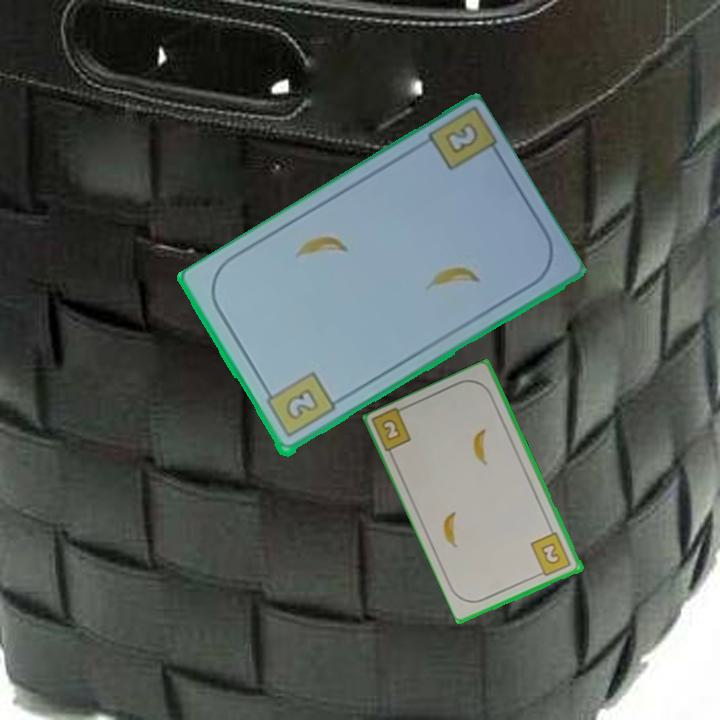2b: (260, 368, 338, 441), (527, 529, 574, 579), (441, 119, 482, 158), (378, 415, 404, 444)
